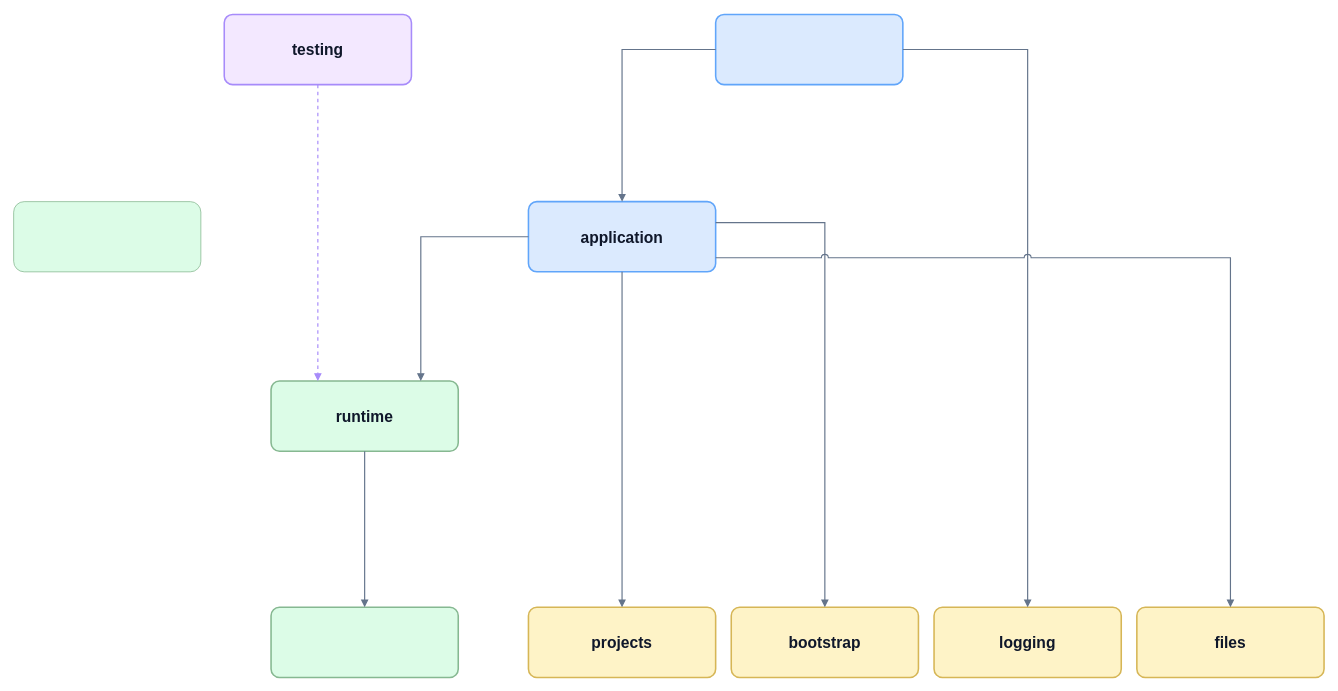
The diagram is 1338 pixels wide and 691 high, and some of its shapes have lost their labels. Here are the shapes that lost their labels. From the top down, the centre of each, then its label:
point 808,49: transport
point 107,236: plugins
point 364,642: extensions
